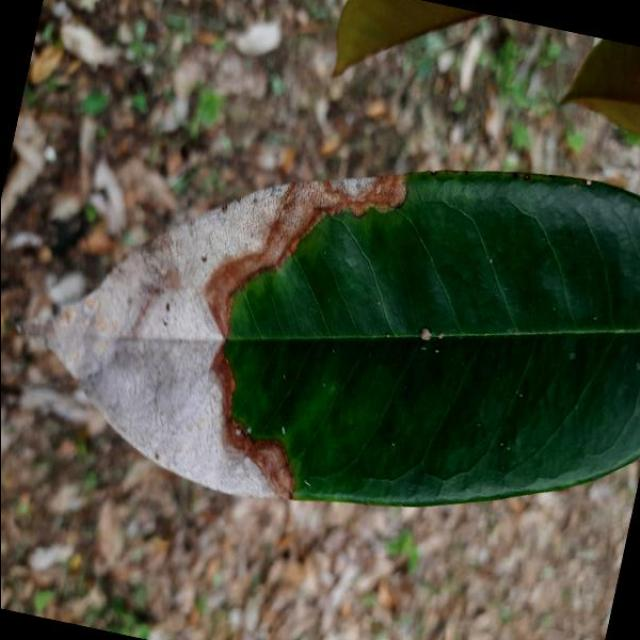Leaf Blight: (6, 69, 640, 586)
